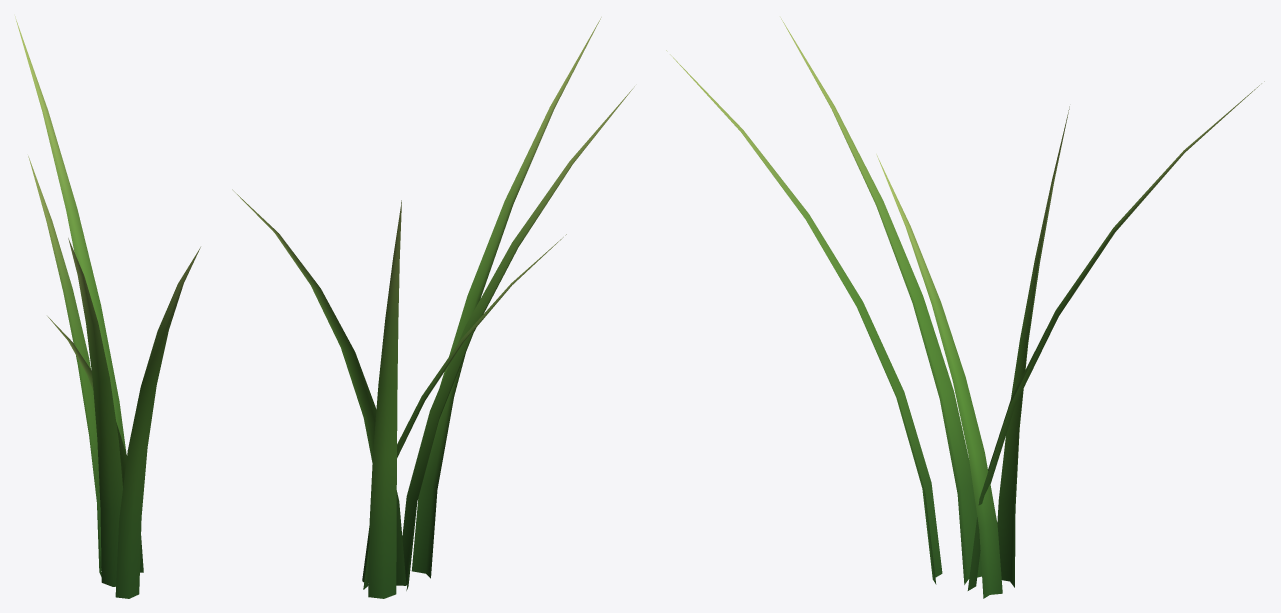
File: Grass_C.fbx
3 views of the same model, side by side, from view 1: azimuth 30°, elevation 25°; view 2: azimuth 150°, elevation 25°; view 3: azimuth 270°, elevation 25° (orthographic). The views are drawn at different scales.
Visible parts, largest first — view 1: Grass_C; view 2: Grass_C; view 3: Grass_C.
Part boxes in pixels (box(x1,y1,x2,y2)): Grass_C: box(15, 16, 200, 598); Grass_C: box(232, 17, 634, 598); Grass_C: box(666, 17, 1264, 598).
Bounding box in the file's own units: 2.09 × 5.56 × 5.84.
